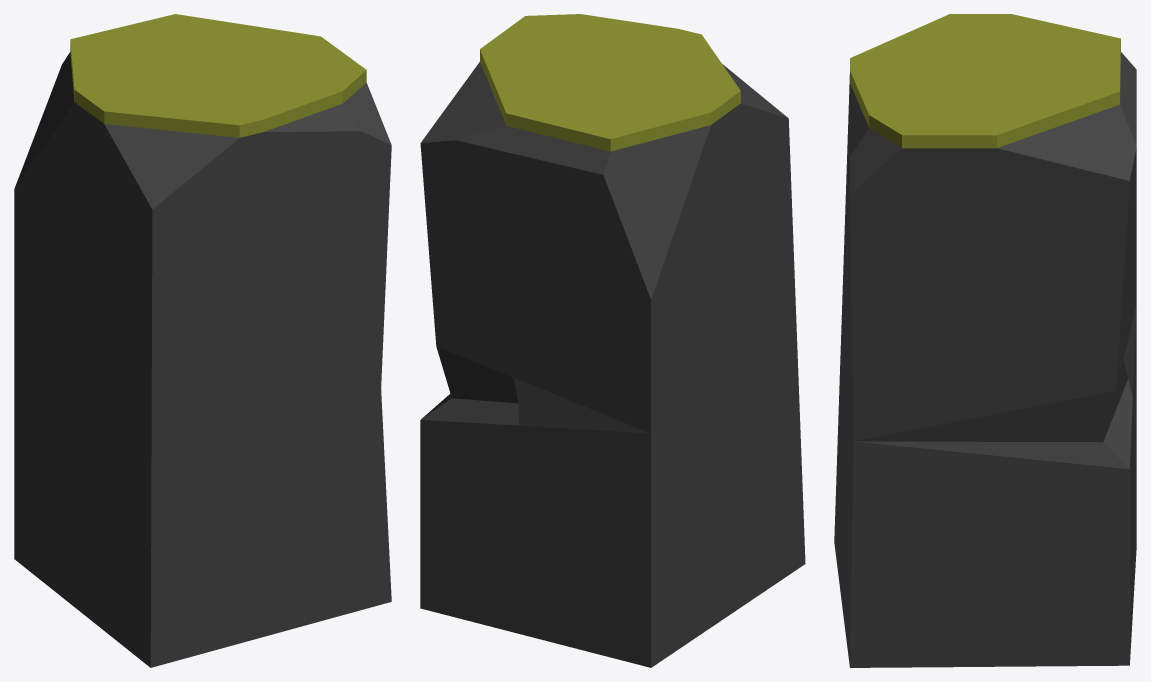
The model's file is rock_rectangular_snow_moss_type_4_LOD0.fbx.
The picture shows the model from 3 angles, left to right: view 1: azimuth 30°, elevation 25°; view 2: azimuth 150°, elevation 25°; view 3: azimuth 270°, elevation 25°; orthographic projection. The views are drawn at different scales.
Parts seen in each view (by area): view 1: Cube.042; view 2: Cube.042; view 3: Cube.042.
Boxes of the visible parts, x1,y1,x2,y2 form: Cube.042: (14, 14, 391, 667); Cube.042: (420, 14, 805, 667); Cube.042: (834, 14, 1136, 667).
Bounding box in the file's own units: 208 × 410 × 211.
